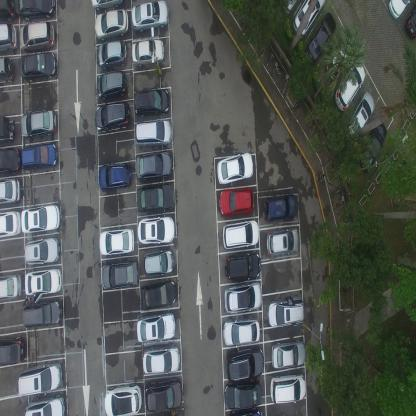car: (17, 360, 62, 398), (358, 118, 388, 173), (334, 61, 365, 112), (306, 11, 336, 61), (144, 376, 182, 412), (135, 309, 176, 342), (226, 345, 262, 381), (24, 267, 63, 300), (348, 90, 374, 139), (225, 282, 263, 315), (104, 382, 142, 415), (293, 0, 326, 38), (18, 50, 58, 81), (136, 147, 171, 182), (132, 0, 168, 34), (267, 295, 304, 328), (101, 258, 140, 289), (141, 343, 181, 373), (100, 225, 136, 258), (217, 150, 253, 183), (326, 36, 353, 80), (221, 219, 259, 250), (136, 179, 174, 210), (21, 203, 60, 233), (22, 298, 62, 327), (94, 9, 129, 42), (22, 140, 58, 172), (19, 19, 55, 51), (20, 108, 57, 139), (137, 212, 175, 242), (99, 158, 132, 192), (96, 100, 130, 133), (134, 86, 170, 117), (269, 375, 306, 405), (224, 252, 261, 282), (223, 383, 263, 410), (136, 118, 172, 148), (218, 185, 254, 215), (223, 316, 260, 345), (140, 278, 176, 306), (25, 234, 58, 264), (262, 195, 296, 224), (131, 38, 165, 67), (270, 346, 305, 373), (266, 228, 298, 257), (24, 394, 65, 416), (143, 245, 172, 275), (97, 41, 127, 70), (96, 70, 126, 99), (0, 333, 25, 367), (17, 0, 56, 21), (0, 271, 22, 302), (0, 208, 22, 238), (0, 144, 21, 175), (0, 22, 19, 53), (0, 178, 21, 204), (89, 0, 124, 13), (404, 0, 415, 41), (0, 115, 16, 143), (388, 0, 412, 18), (0, 53, 14, 82), (0, 0, 17, 20)
